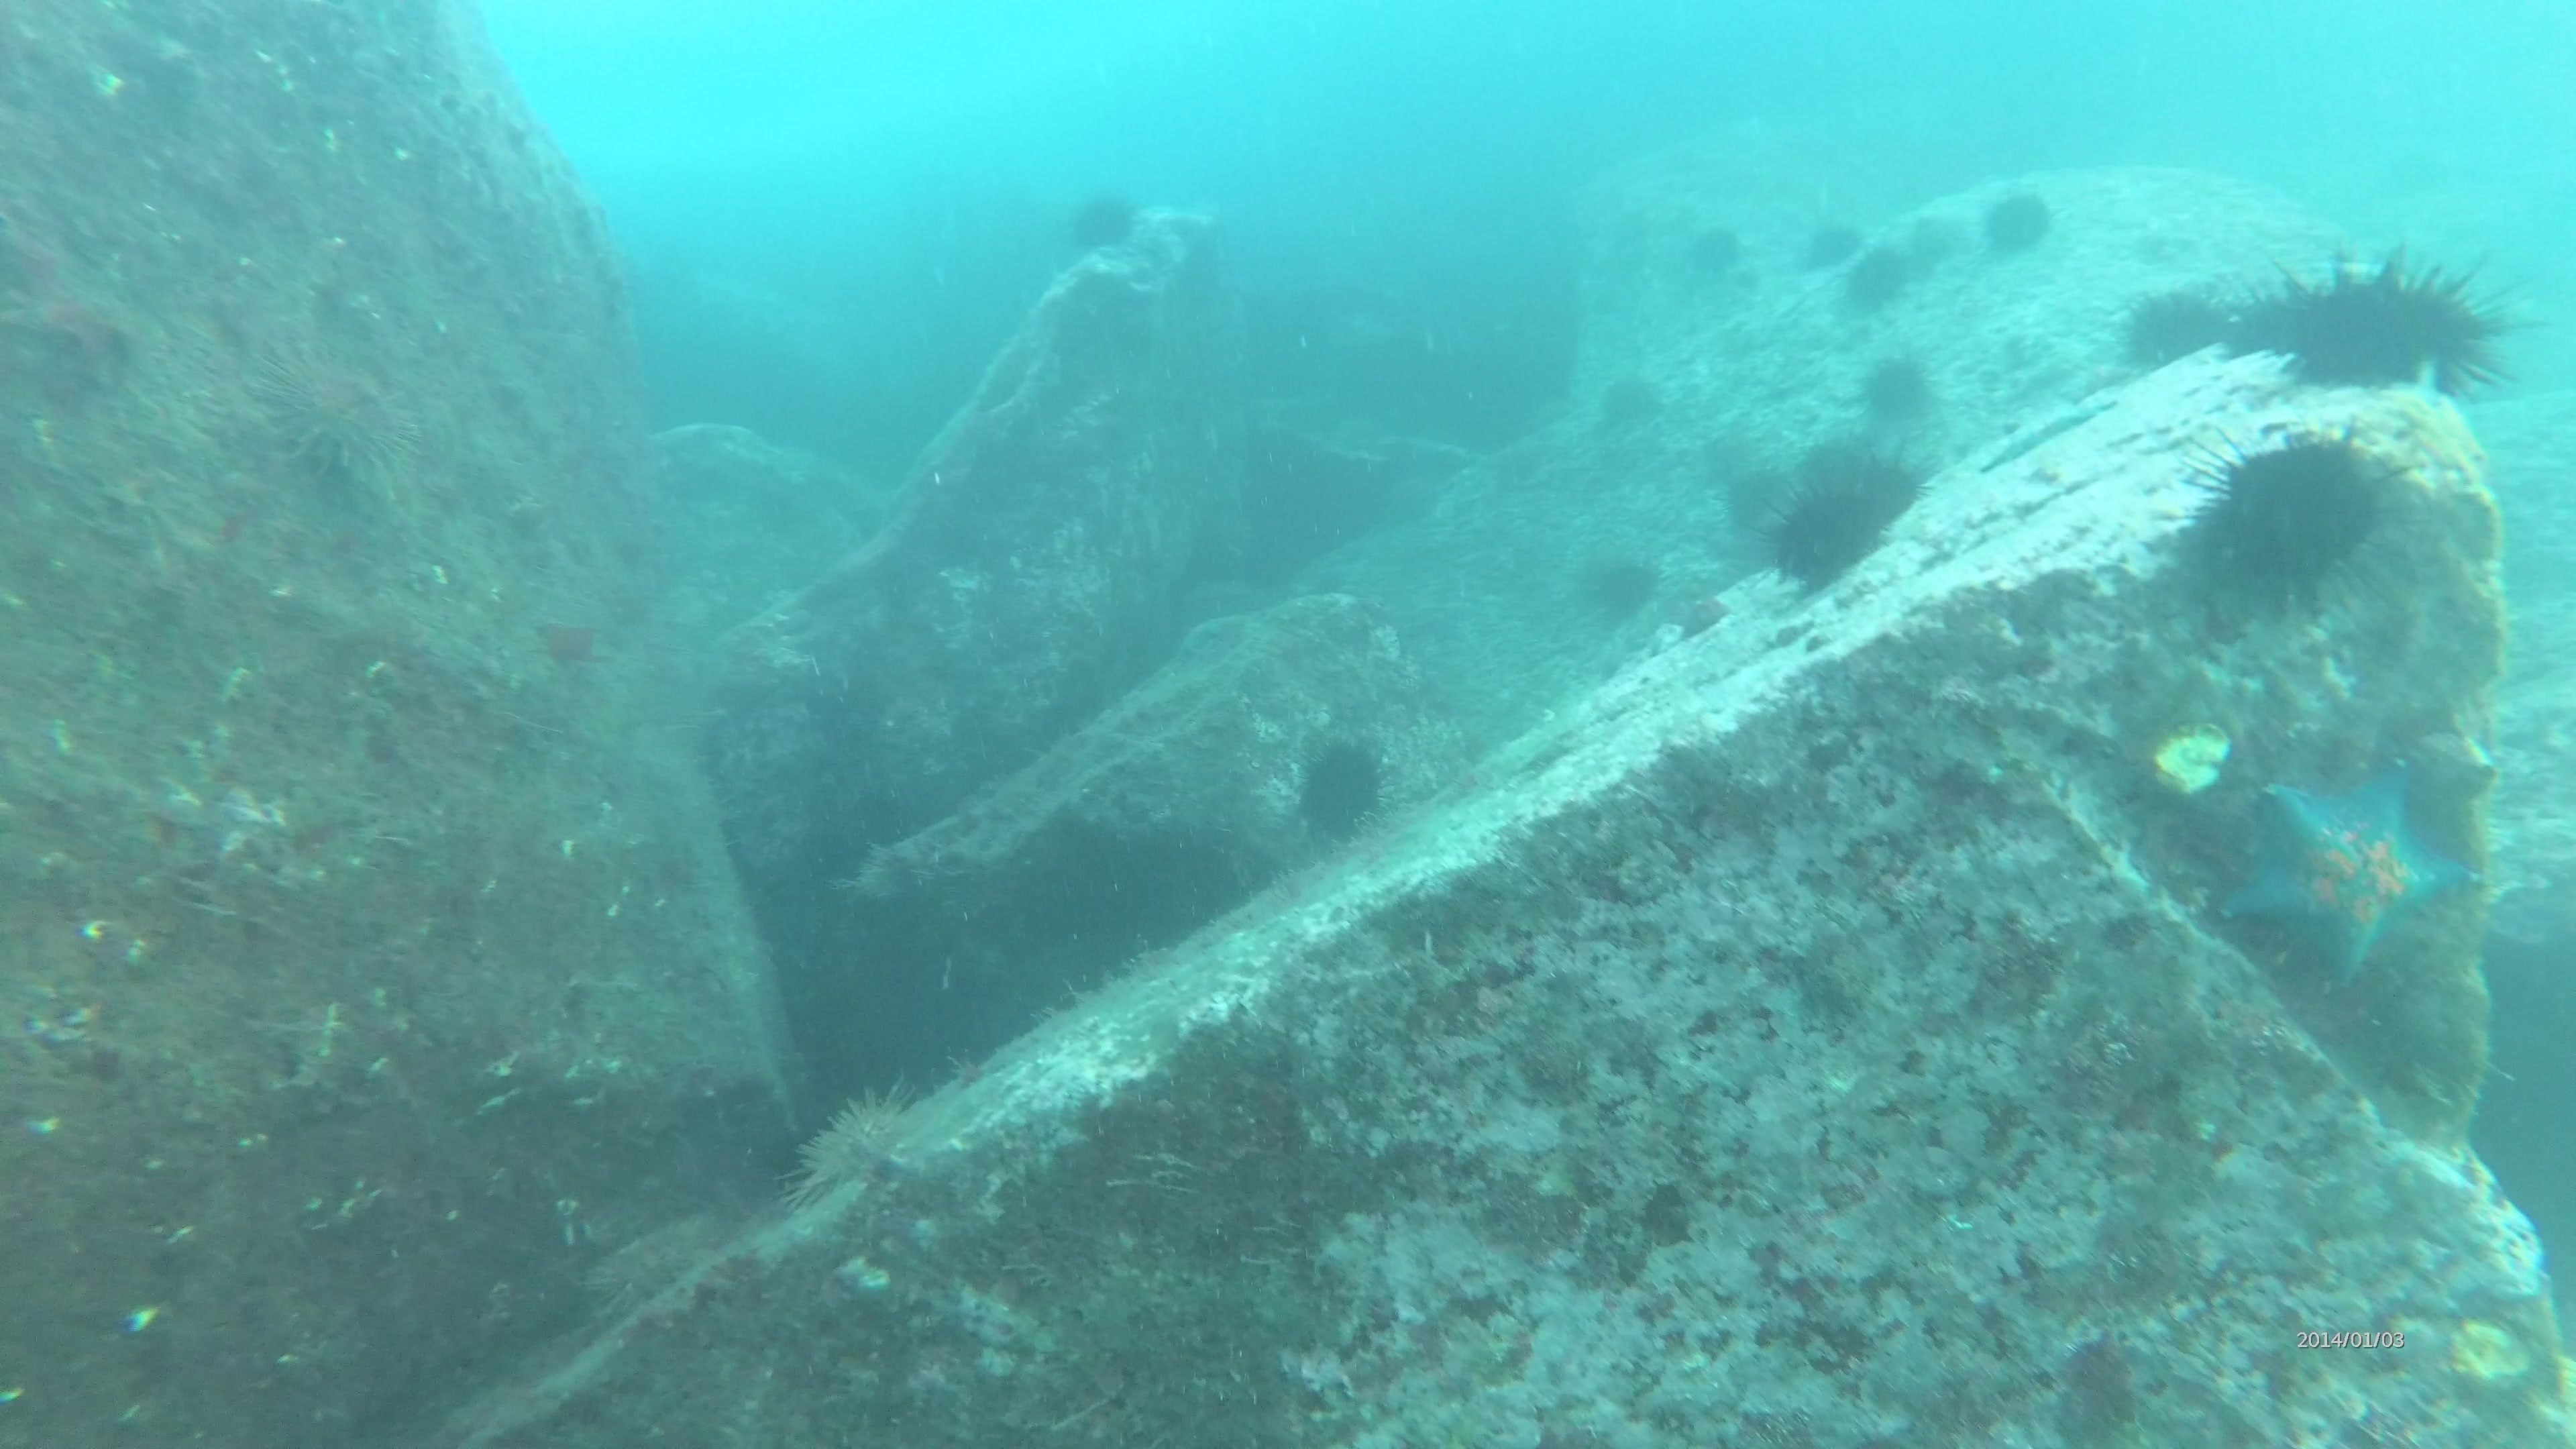echinus: (2254, 241, 2518, 407), (2180, 421, 2401, 616), (248, 336, 423, 499), (778, 1079, 943, 1223), (2111, 280, 2236, 384), (1288, 731, 1396, 847), (1771, 488, 1884, 594), (1571, 543, 1665, 633), (1851, 347, 1943, 433), (1974, 182, 2061, 264), (1835, 239, 1918, 320), (1060, 184, 1145, 258), (1591, 366, 1668, 444), (1677, 216, 1752, 288), (1798, 211, 1868, 278), (1856, 458, 1934, 518), (1790, 437, 1868, 497), (1723, 467, 1789, 536)
starfish: (2219, 761, 2475, 993), (531, 610, 607, 672)
